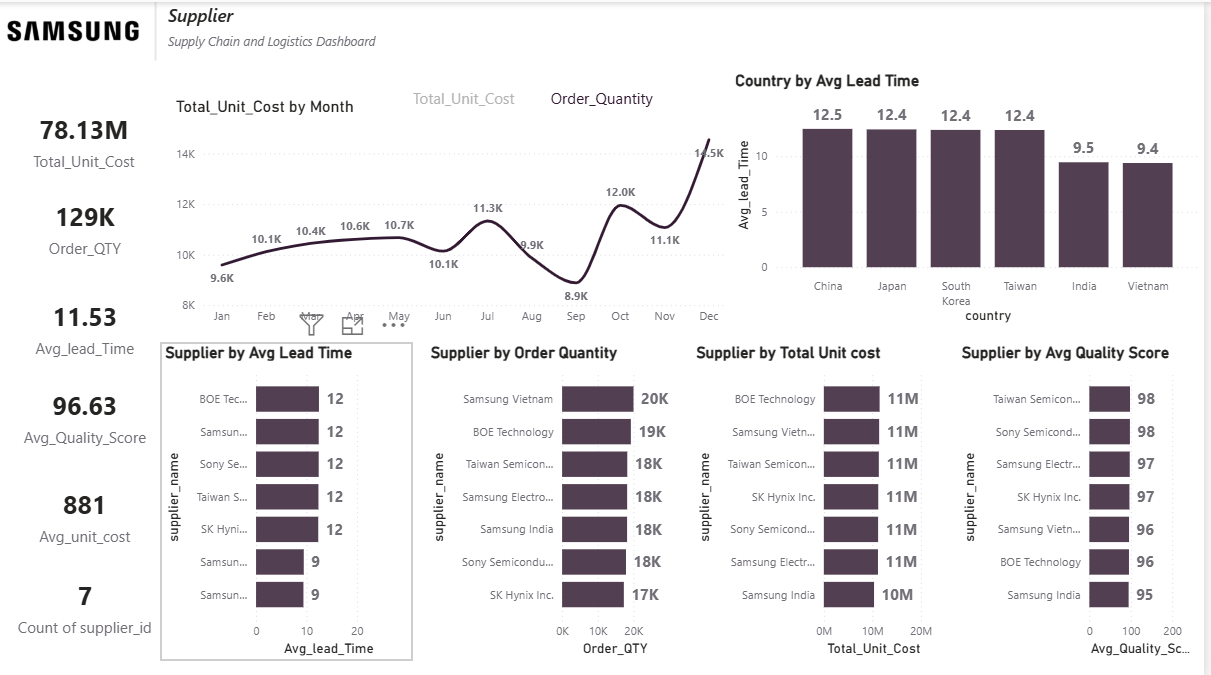

The dashboard page shown, as its layout file describes it:
{"tool":"powerbi","page":{"name":"Supplier","canvas":[1280,720],"ordinal":2},"visuals":[{"type":"shape","title":"Supplier","box":[181.6,2.1,240,60.5],"z":0},{"type":"lineChart","title":"Total_Unit_Cost by Month","fields":{"Y":["MeasuresTable.Order_QTY"],"Category":["dim_date.Month_Short"]},"box":[184.3,101.1,593.9,251],"z":0,"group":"g1"},{"type":"shape","box":[154.6,0,27.7,61.8],"z":1000},{"type":"advancedSlicerVisual","fields":{"Values":["Cost_Qty_Supplier.Cost_Qty_Supplier"]},"box":[422.5,73.5,295.9,57.1],"z":1000,"group":"g1"},{"type":"image","box":[0,0,154.6,60.2],"z":2000},{"type":"card","fields":{"Values":["fact_procurement.Total_Unit_Cost"]},"box":[0,106.1,183.7,79.6],"z":3000},{"type":"card","fields":{"Values":["MeasuresTable.Avg_lead_Time"]},"box":[0,304.7,185.7,79.3],"z":4000},{"type":"card","fields":{"Values":["fact_procurement.Avg_Quality_Score"]},"box":[0,398.6,185.7,79.3],"z":5000},{"type":"card","fields":{"Values":["fact_procurement.Avg_unit_cost"]},"box":[0,504,185.5,80],"z":6000},{"type":"card","fields":{"Values":["CountNonNull(dim_supplier.supplier_id)"]},"box":[0,599,185.7,81.4],"z":7000},{"type":"card","fields":{"Values":["MeasuresTable.Order_QTY"]},"box":[0,198.4,185.6,80],"z":8000},{"type":"clusteredBarChart","title":"Supplier by Avg Lead Time ","fields":{"Y":["MeasuresTable.Avg_lead_Time"],"Category":["dim_supplier.supplier_name"]},"box":[173.9,360.9,267.4,337],"z":9000},{"type":"clusteredBarChart","title":"Supplier by Order Quantity","fields":{"Y":["MeasuresTable.Order_QTY"],"Category":["dim_supplier.supplier_name"]},"box":[454.3,360.9,271.7,337],"z":10000},{"type":"clusteredBarChart","title":"Supplier by Total Unit cost","fields":{"Y":["fact_procurement.Total_Unit_Cost"],"Category":["dim_supplier.supplier_name"]},"box":[737,360.9,263,337],"z":11000},{"type":"clusteredColumnChart","title":"Country by Avg Lead Time","fields":{"Category":["dim_supplier.country"],"Y":["MeasuresTable.Avg_lead_Time"]},"box":[778.3,73.9,502.2,271.7],"z":12000},{"type":"clusteredBarChart","title":"Supplier by Avg Quality Score","fields":{"Category":["dim_supplier.supplier_name"],"Y":["fact_procurement.Avg_Quality_Score"]},"box":[1017.4,360.9,263,337],"z":13000},{"type":"group","id":"g1","title":"Group 1","box":[184.3,73.5,593.9,278.6],"z":14000},{"type":"pageNavigator","box":[828.7,0,451.7,31.8],"z":14001}]}

Visuals, with their boxes in screenshot pixels (x1, y1, x2, y2), scaled from the page's 1280x720 canvas onto the 1211x675 screenshot:
"Supplier" shape: 172 2 399 59
"Total_Unit_Cost by Month" lineChart: 174 95 736 330
shape: 146 0 172 58
advancedSlicerVisual - Cost_Qty_Supplier.Cost_Qty_Supplier: 400 69 680 122
image: 0 0 146 56
card - fact_procurement.Total_Unit_Cost: 0 99 174 174
card - MeasuresTable.Avg_lead_Time: 0 286 176 360
card - fact_procurement.Avg_Quality_Score: 0 374 176 448
card - fact_procurement.Avg_unit_cost: 0 472 176 548
card - CountNonNull(dim_supplier.supplier_id): 0 562 176 638
card - MeasuresTable.Order_QTY: 0 186 176 261
"Supplier by Avg Lead Time " clusteredBarChart: 165 338 418 654
"Supplier by Order Quantity" clusteredBarChart: 430 338 687 654
"Supplier by Total Unit cost" clusteredBarChart: 697 338 946 654
"Country by Avg Lead Time" clusteredColumnChart: 736 69 1210 324
"Supplier by Avg Quality Score" clusteredBarChart: 963 338 1210 654
"Group 1" group: 174 69 736 330
pageNavigator: 784 0 1210 30
